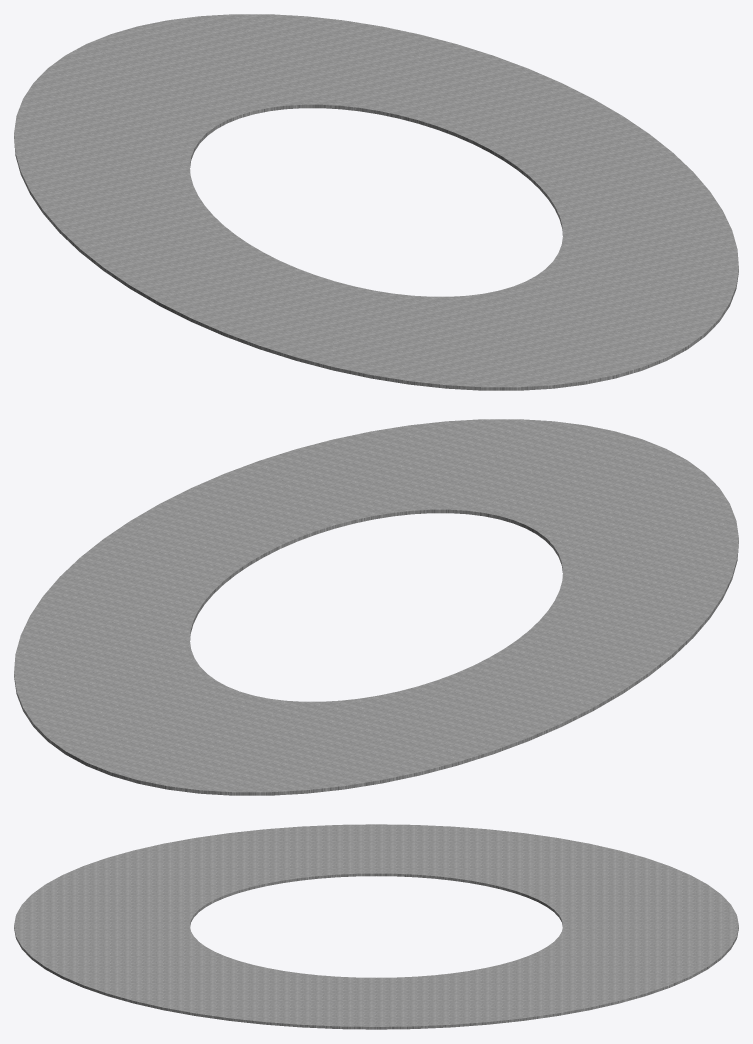
File: Roundabout_Pavement.FBX
3 views of the same model, one above another, from view 1: azimuth 30°, elevation 25°; view 2: azimuth 150°, elevation 25°; view 3: azimuth 270°, elevation 25° (orthographic). The views are drawn at different scales.
Parts seen in each view (by area): view 1: Tube001; view 2: Tube001; view 3: Tube001.
Part boxes in pixels (<box>): Tube001: <box>14,14,738,390</box>; Tube001: <box>14,419,738,795</box>; Tube001: <box>14,824,738,1029</box>.
Bounding box in the file's own units: 173 × 1.05 × 261.
1 material, 1 textured.
